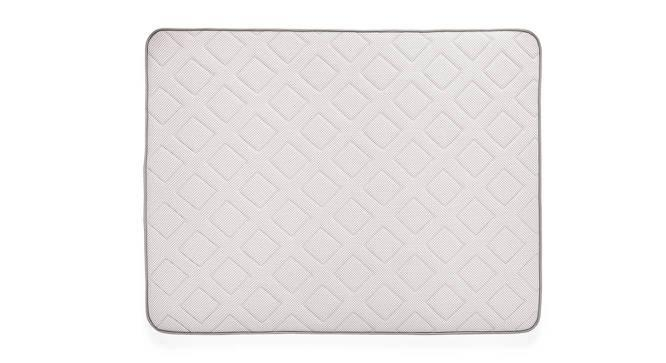Bed-Mattress: (138, 24, 546, 338)
